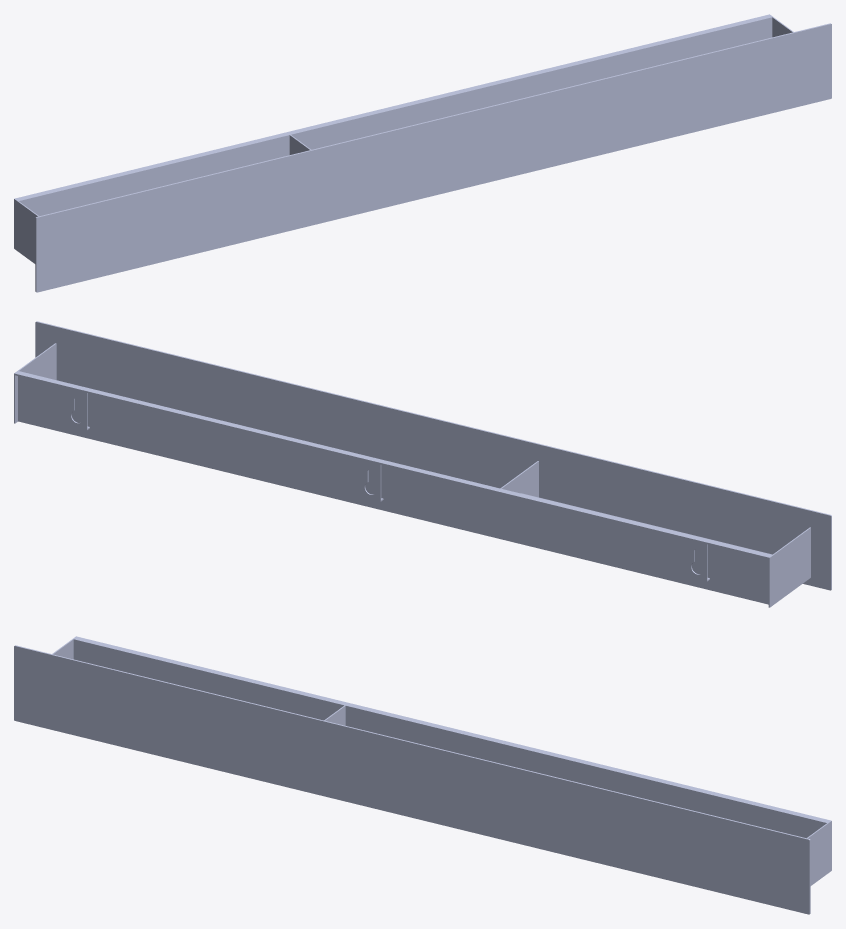
The model's file is skyline-double.0a59c49acd.glb.
3 renders of one model, top to bottom at view 1: azimuth 30°, elevation 25°; view 2: azimuth 150°, elevation 25°; view 3: azimuth 330°, elevation 25°, orthographic.
Visible parts, largest first — view 1: NAUO1; view 2: NAUO1; view 3: NAUO1.
Boxes of the visible parts, box(x1,y1,x2,y2) form: NAUO1: box(14, 14, 831, 292); NAUO1: box(14, 321, 831, 607); NAUO1: box(14, 636, 831, 914).
Size of the model in its own units: 1 by 0.09 by 0.092.
